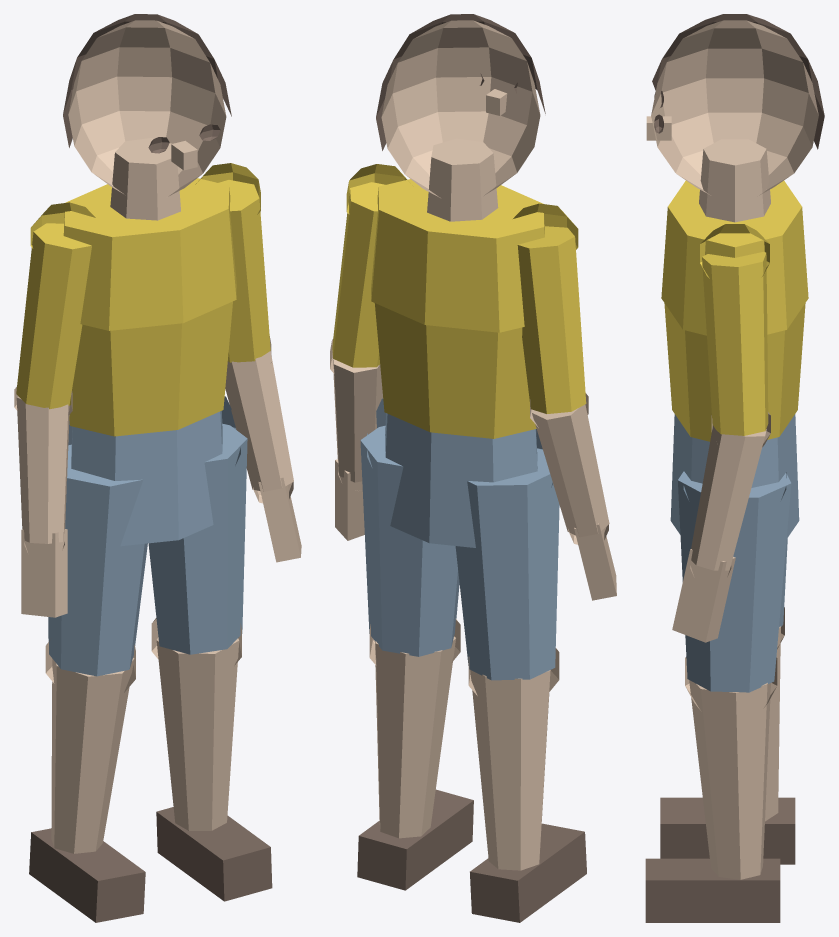
The model's file is low-poly-character-figures-child-standing-a2d5efad__36350.glb.
The picture shows the model from 3 angles, left to right: view 1: azimuth 30°, elevation 25°; view 2: azimuth 150°, elevation 25°; view 3: azimuth 270°, elevation 25°; orthographic projection.
Parts seen in each view (by area): view 1: child-standing; view 2: child-standing; view 3: child-standing.
Part boxes in pixels (box(x1,y1,x2,y2)): child-standing: box(14, 14, 301, 922); child-standing: box(330, 14, 616, 922); child-standing: box(645, 14, 824, 922).
Bounding box in the file's own units: 0.3935 × 1.15 × 0.2164.
